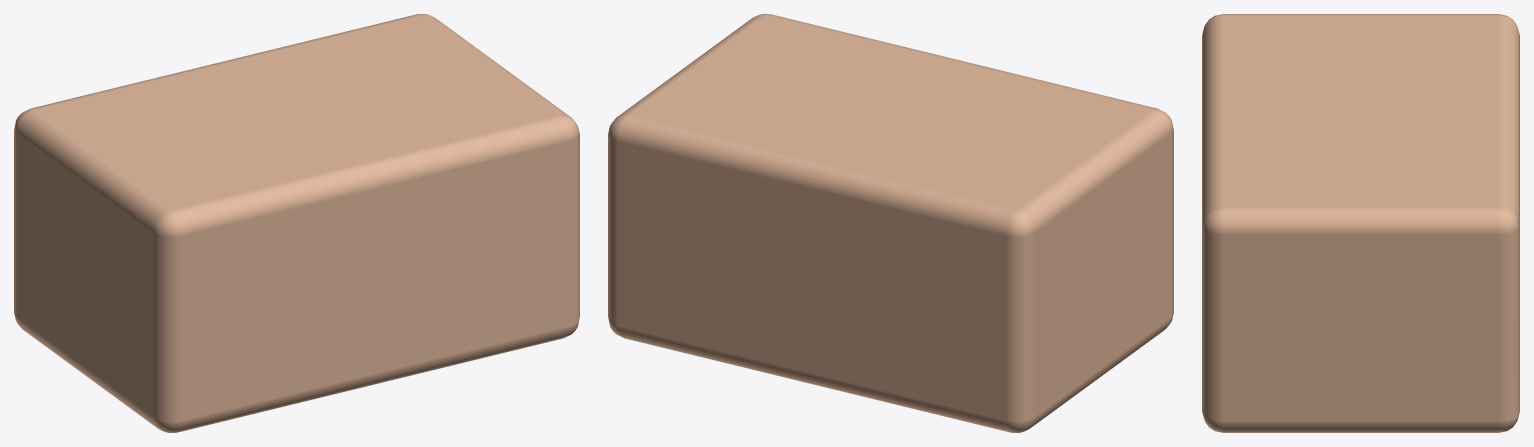
The model's file is block_peach.glb.
3 views of the same model, side by side, from view 1: azimuth 30°, elevation 25°; view 2: azimuth 150°, elevation 25°; view 3: azimuth 270°, elevation 25° (orthographic).
Visible parts, largest first — view 1: block_peach; view 2: block_peach; view 3: block_peach.
Boxes of the visible parts, <box> form: block_peach: <box>14,14,579,432</box>; block_peach: <box>608,14,1173,432</box>; block_peach: <box>1202,14,1519,432</box>.
Size of the model in its own units: 0.07 by 0.035 by 0.045.
